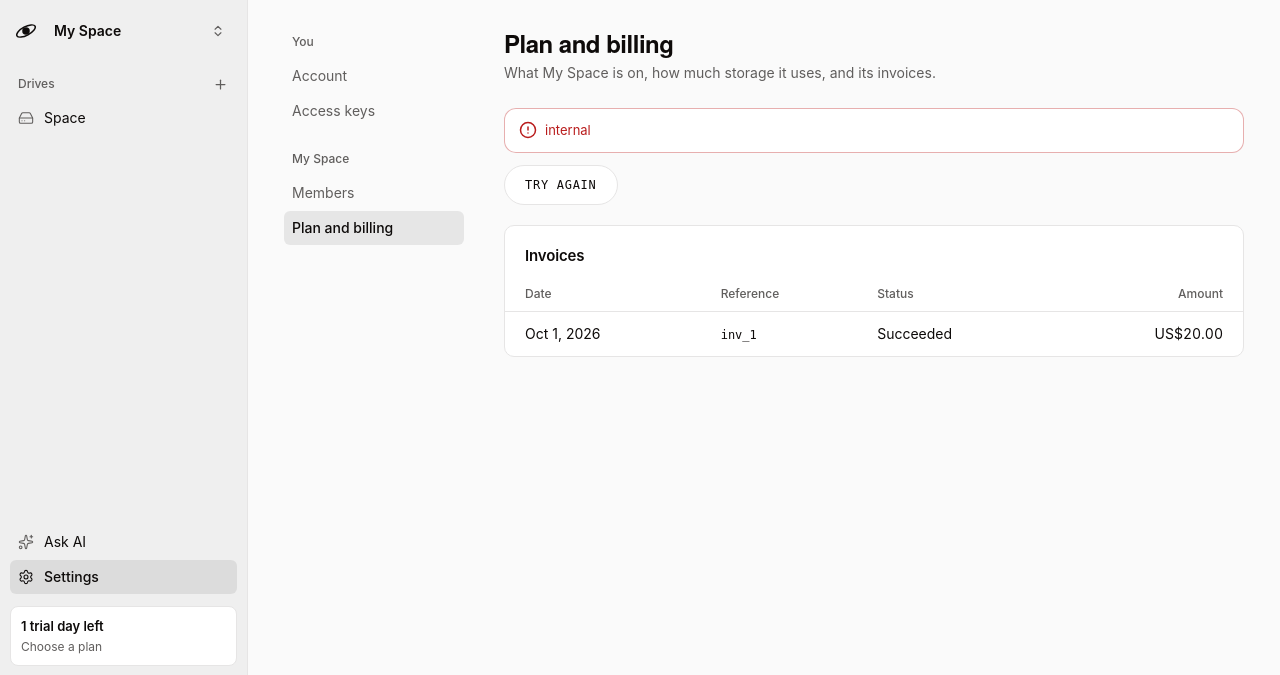
Test: explains a failed load and retries it
Expected: the message "internal" is shown, [504,108,1244,153]
Click the button "Try again" at (561, 185), box [504,165,618,205]
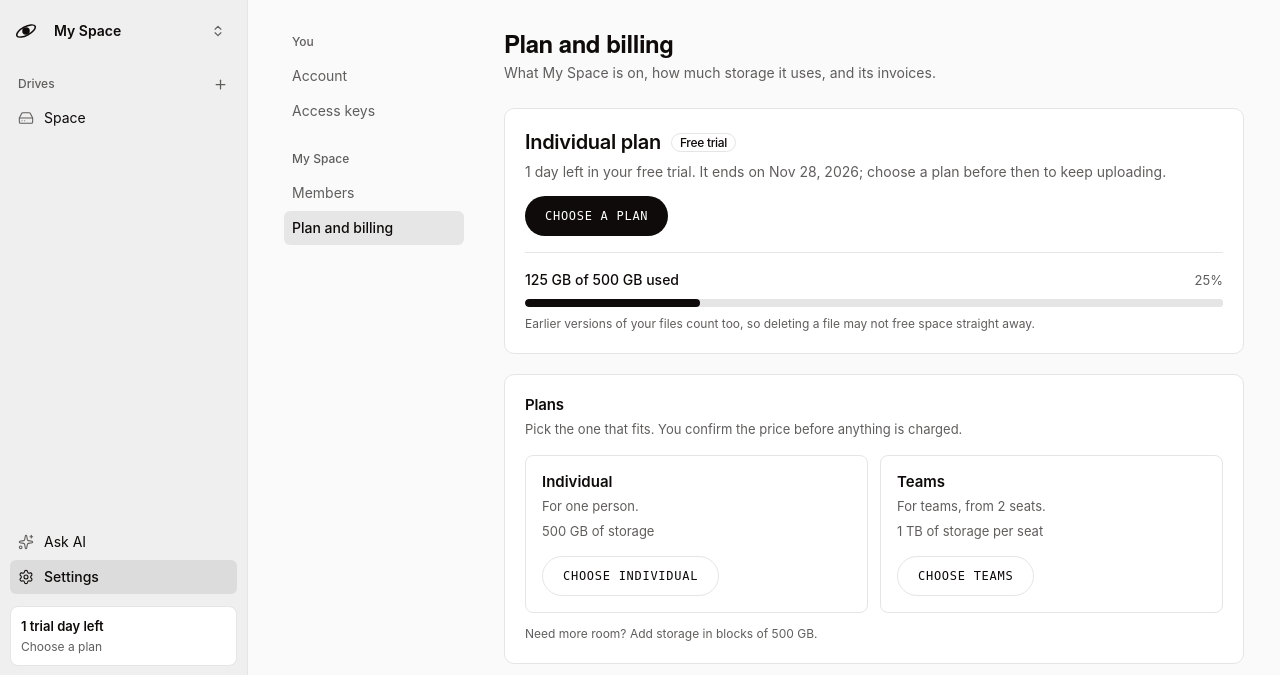
Now the text "1 day left in your free trial" is shown, box [525,163,1166,180]
